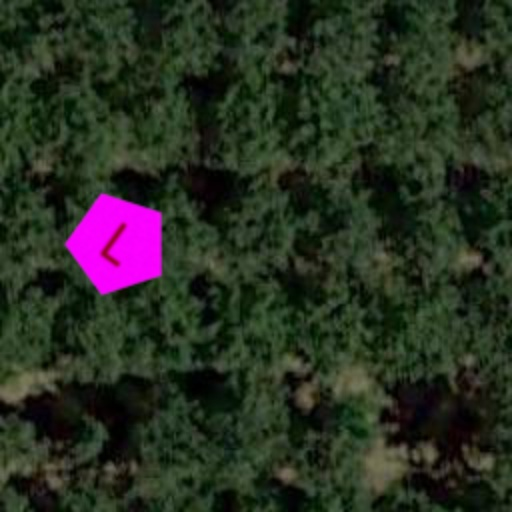pentagon: (42, 168, 194, 320)
